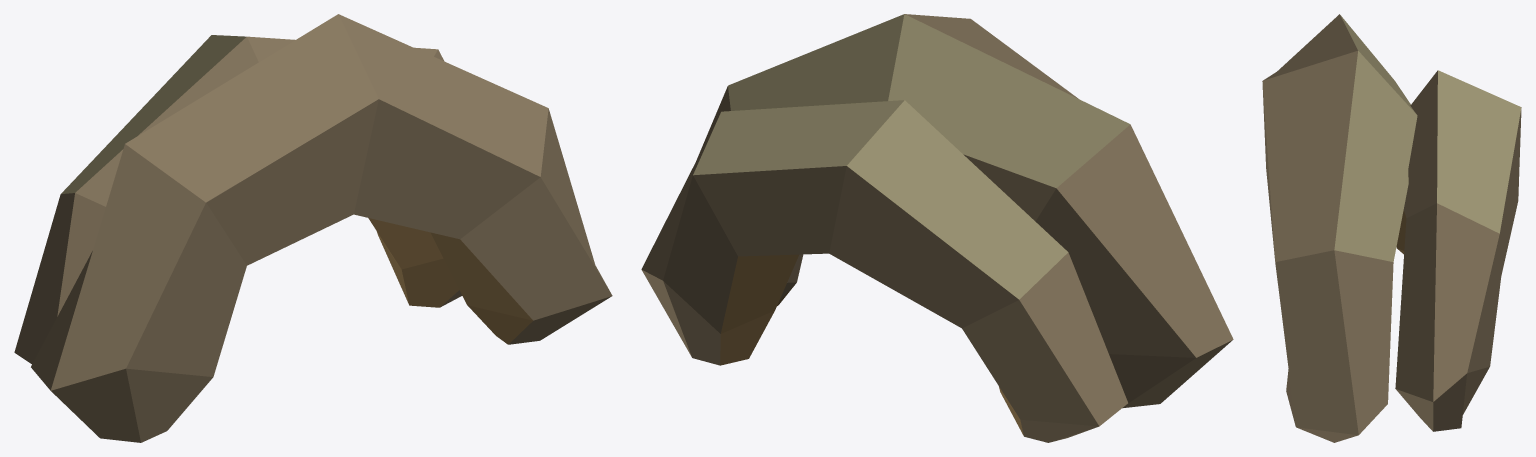
Rendered from TB_D_Env_BoneH_B.FBX.
The picture shows the model from 3 angles, left to right: view 1: azimuth 30°, elevation 25°; view 2: azimuth 150°, elevation 25°; view 3: azimuth 270°, elevation 25°; orthographic projection. The views are drawn at different scales.
Visible parts, largest first — view 1: TB_D_Env_BoneH_B; view 2: TB_D_Env_BoneH_B; view 3: TB_D_Env_BoneH_B.
Part boxes in pixels (x1,y1,x2,y2): TB_D_Env_BoneH_B: (14, 14, 612, 442); TB_D_Env_BoneH_B: (641, 14, 1233, 442); TB_D_Env_BoneH_B: (1262, 14, 1521, 442).
Bounding box in the file's own units: 1.65 × 0.9755 × 0.7415.
